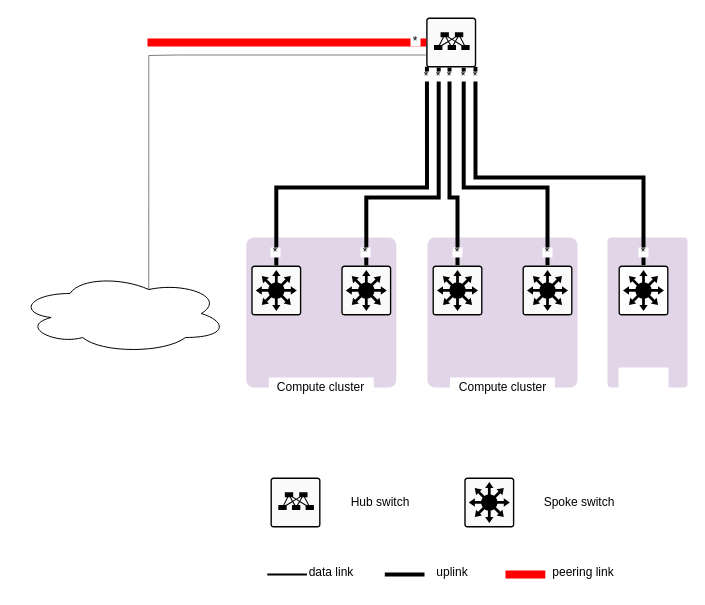
This 705x605 diagram has some shape labels left out. The centre of each missing label's shape, as x and y in pixels:
Internet: point 122,313
Radio cluster: point 643,382
